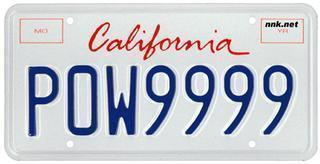placa de veiculo: (9, 2, 316, 160)
